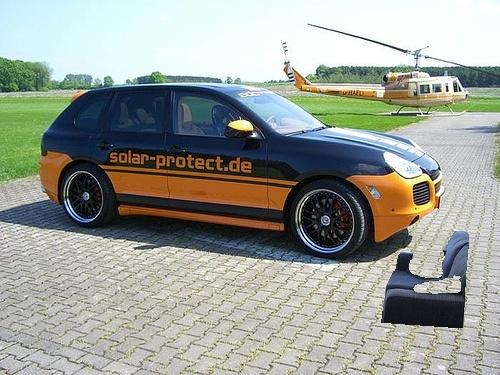tampered: (382, 232, 469, 328)
